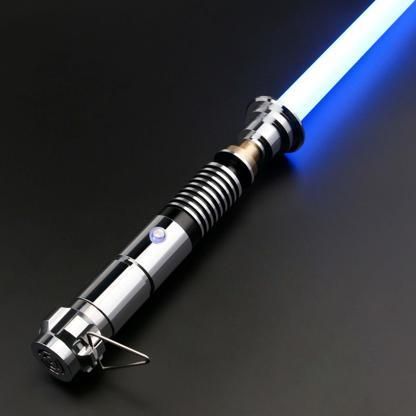lightsaber: (30, 0, 416, 397)
